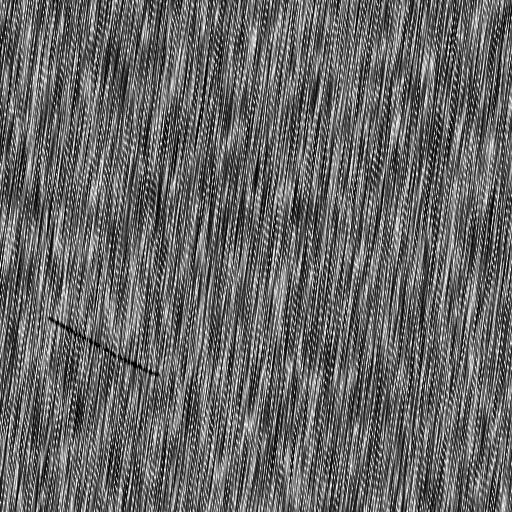DefectTypeC: (48, 316, 158, 376)
